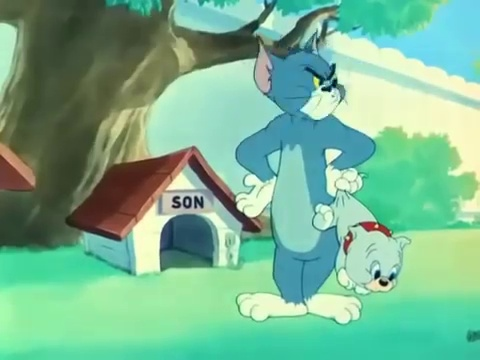tom: (252, 29, 351, 125)
